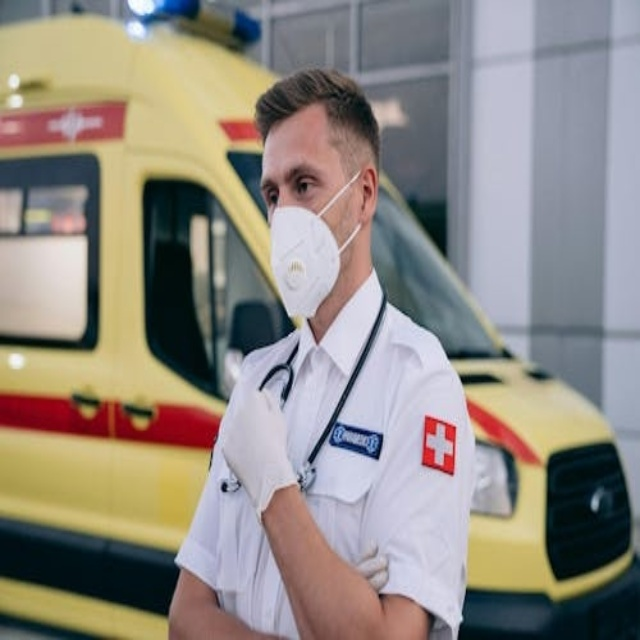Guantes: (221, 381, 297, 519), (353, 543, 389, 595)
Mascara: (269, 172, 359, 318)
Sin_gafas: (257, 152, 328, 208)
